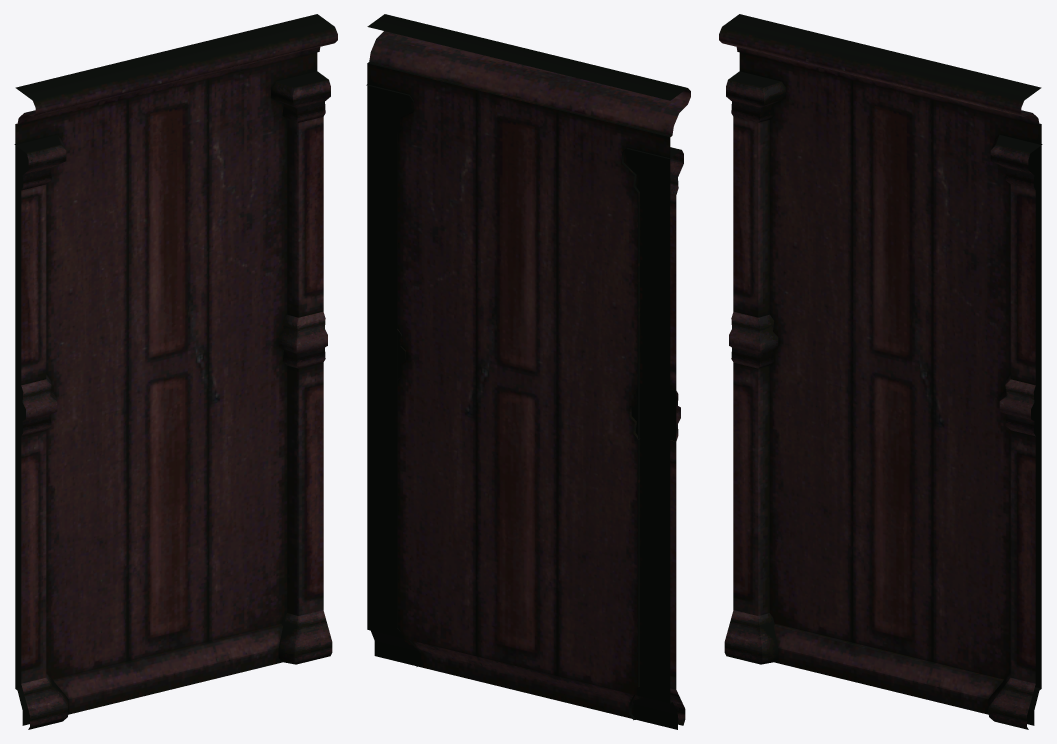
Rendered from 42_short02.dae.
3 views of the same model, side by side, from view 1: azimuth 30°, elevation 25°; view 2: azimuth 150°, elevation 25°; view 3: azimuth 330°, elevation 25° (orthographic).
Parts seen in each view (by area): view 1: short02; view 2: short02; view 3: short02.
Part boxes in pixels (x1,y1,x2,y2): short02: (14,14,337,729); short02: (366,14,690,729); short02: (719,14,1042,729).
Bounding box in the file's own units: 2 × 4 × 0.2475.
